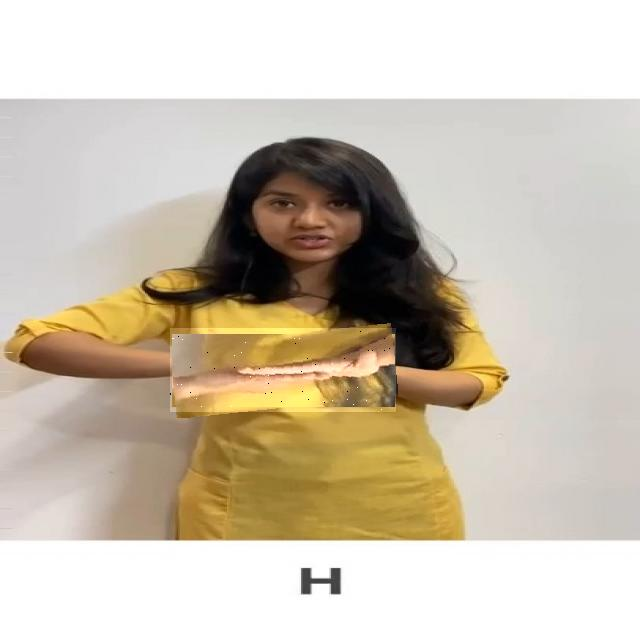H: (170, 328, 397, 412)
